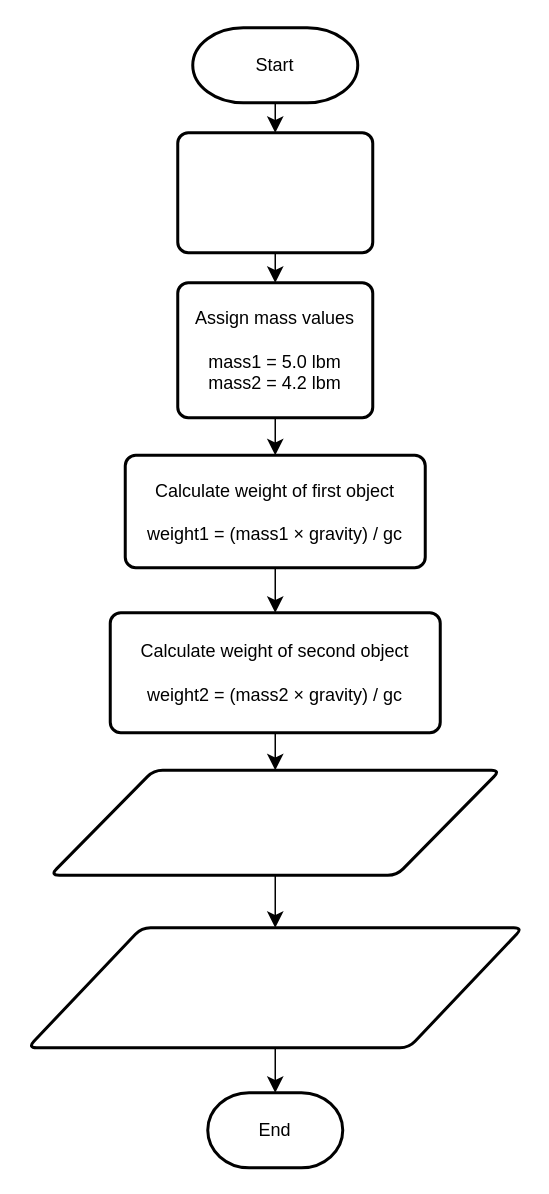
Some shapes in this 549 by 1194 pixel diagram are drawn without their labels. The shapes that lost their labels are listed below. From the top down, each one's centre as x and y in pixels, then its label:
[275,192]: Define constants gravity = 32.2 ft/s gc = 32.2
[274,822]: Display "Weight for 5 lbm: weight1 lbf"
[275,987]: Display "Weight for 4.2 lbm: weight2 lbf"
